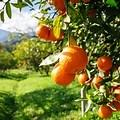orange: (36, 22, 70, 43), (56, 49, 86, 72), (53, 65, 82, 82), (99, 52, 114, 67)
